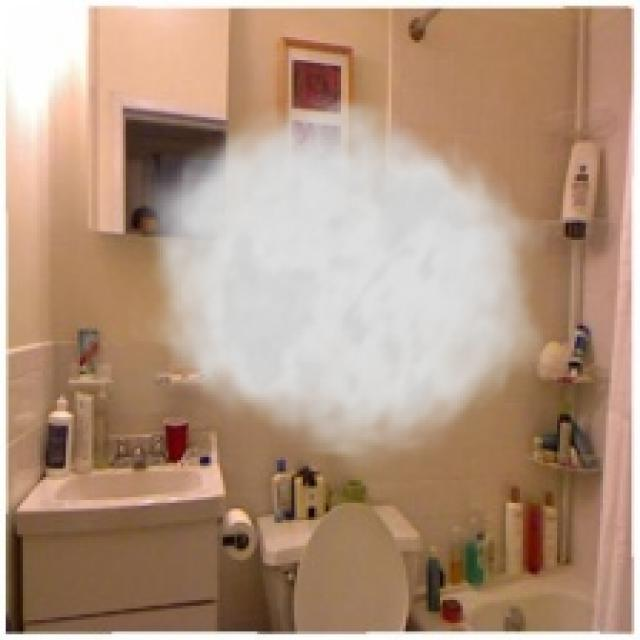Smoke: (128, 86, 548, 477)
